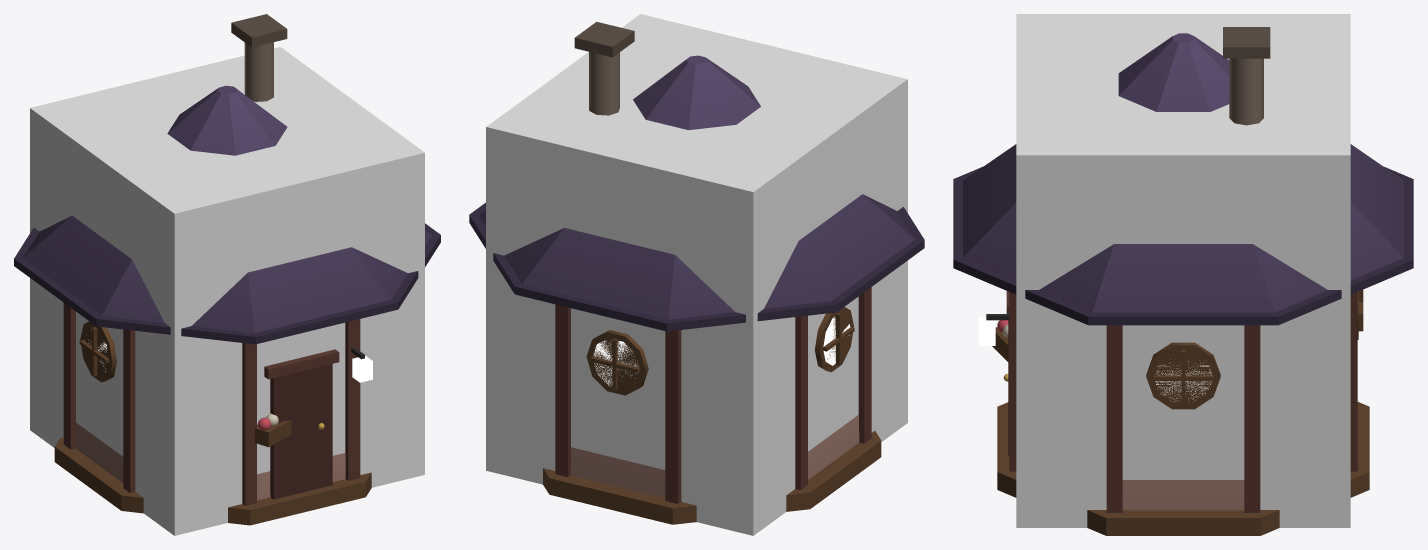
Rendered from casa_copa_rosa.glb.
3 renders of one model, left to right at view 1: azimuth 30°, elevation 25°; view 2: azimuth 150°, elevation 25°; view 3: azimuth 270°, elevation 25°, orthographic. The views are drawn at different scales.
Parts seen in each view (by area): view 1: COL_0, casa_copa_rosa_Malla; view 2: COL_0, casa_copa_rosa_Malla; view 3: COL_0, casa_copa_rosa_Malla.
Part boxes in pixels (<box>): COL_0: <box>30,47,424,535</box>; casa_copa_rosa_Malla: <box>14,14,440,525</box>; COL_0: <box>486,14,907,535</box>; casa_copa_rosa_Malla: <box>469,21,924,524</box>; COL_0: <box>1016,14,1350,527</box>; casa_copa_rosa_Malla: <box>953,27,1413,535</box>.
Size of the model in its own units: 5.82 by 6.33 by 5.82.
